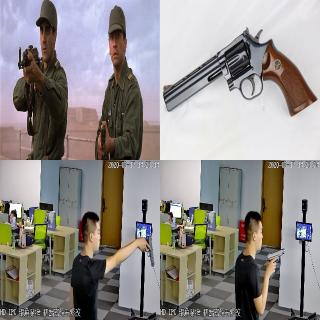gun: (162, 17, 316, 121), (16, 41, 40, 103), (266, 248, 284, 276), (140, 234, 154, 268), (98, 122, 106, 156)
